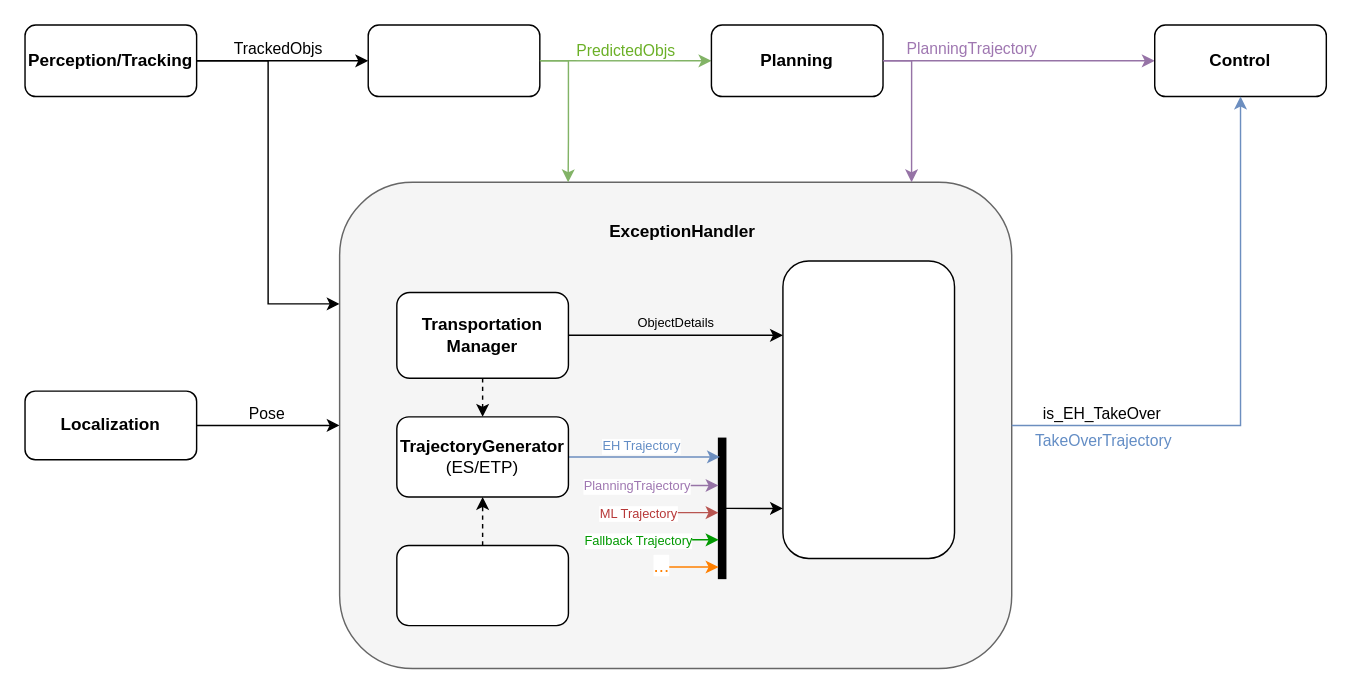
The diagram is 1351 pixels wide and 694 high, and some of its shapes have lost their labels. The shapes that lost their labels are listed below. From the top down, each one's centre as x and y in pixels, then its label:
At point 453,60: "Prediction".
At point 868,409: "EvaluationManager".
At point 481,585: "TrajectoryManager (HB/EB/EBS)".
